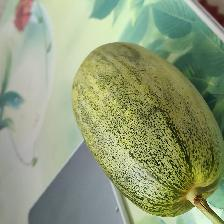gua: (82, 60, 201, 205)
